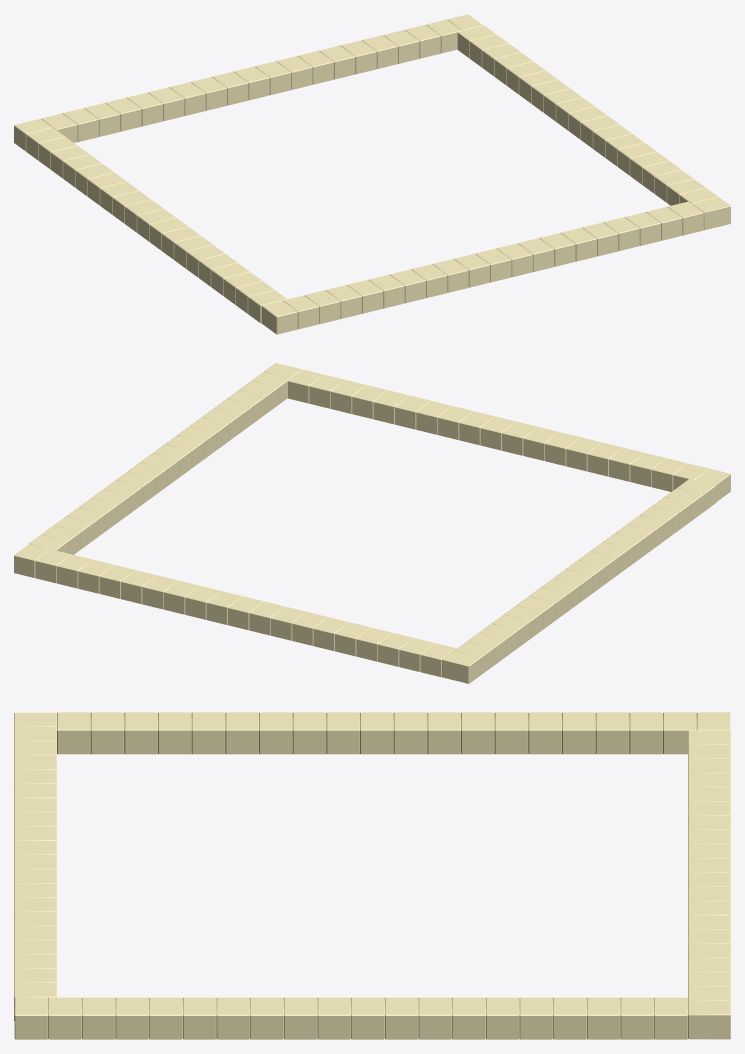
The model's file is Pool.fbx.
The picture shows the model from 3 angles, top to bottom: view 1: azimuth 30°, elevation 25°; view 2: azimuth 150°, elevation 25°; view 3: azimuth 270°, elevation 25°; orthographic projection. The views are drawn at different scales.
Parts seen in each view (by area): view 1: Cube.002; view 2: Cube.002; view 3: Cube.002.
Boxes of the visible parts, x1,y1,x2,y2 form: Cube.002: (14,14,730,334); Cube.002: (14,363,730,683); Cube.002: (14,712,730,1039).
Bounding box in the file's own units: 1159 × 44.16 × 1158.
